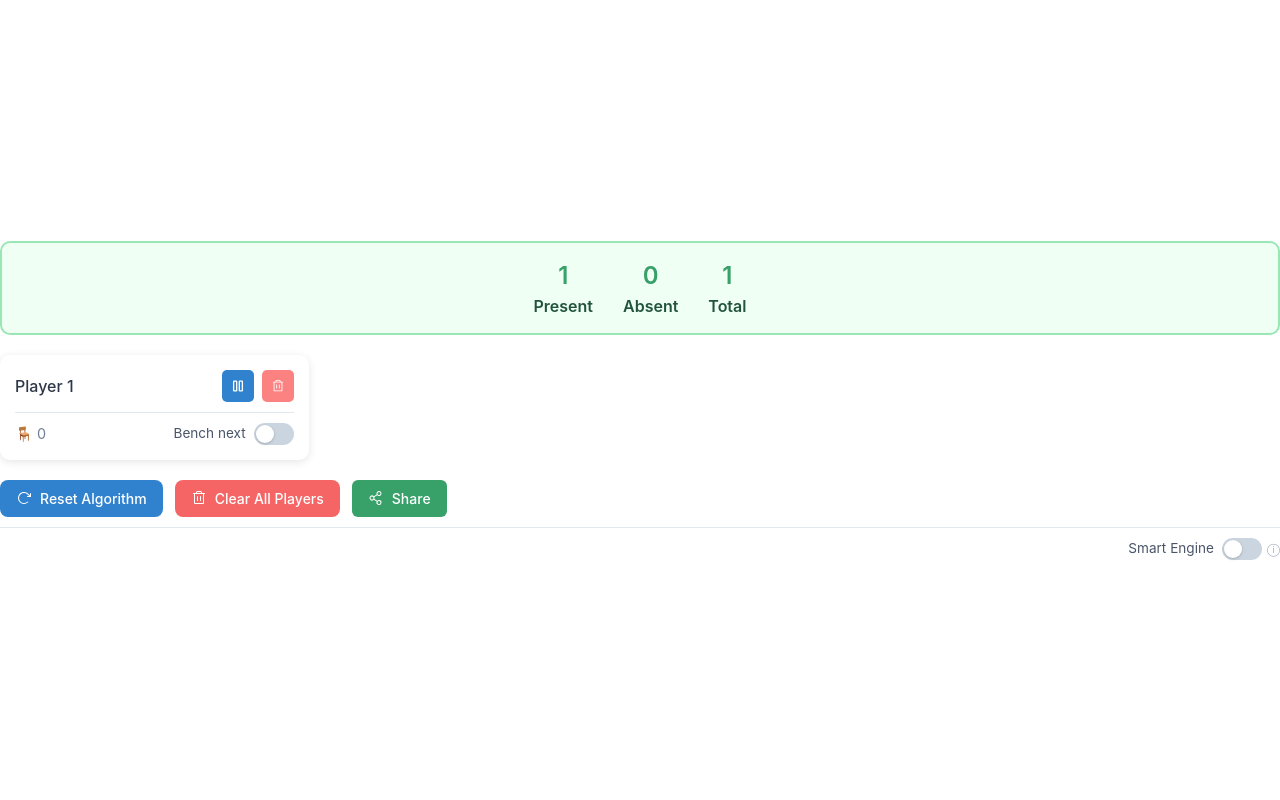
Test case: PlayerList Component › opens removal modal when remove button is clicked
This screenshot has width=1280, height=800.
Click the button titled "Delete player permanently".
click(278, 386)  # box [262,370,294,402]
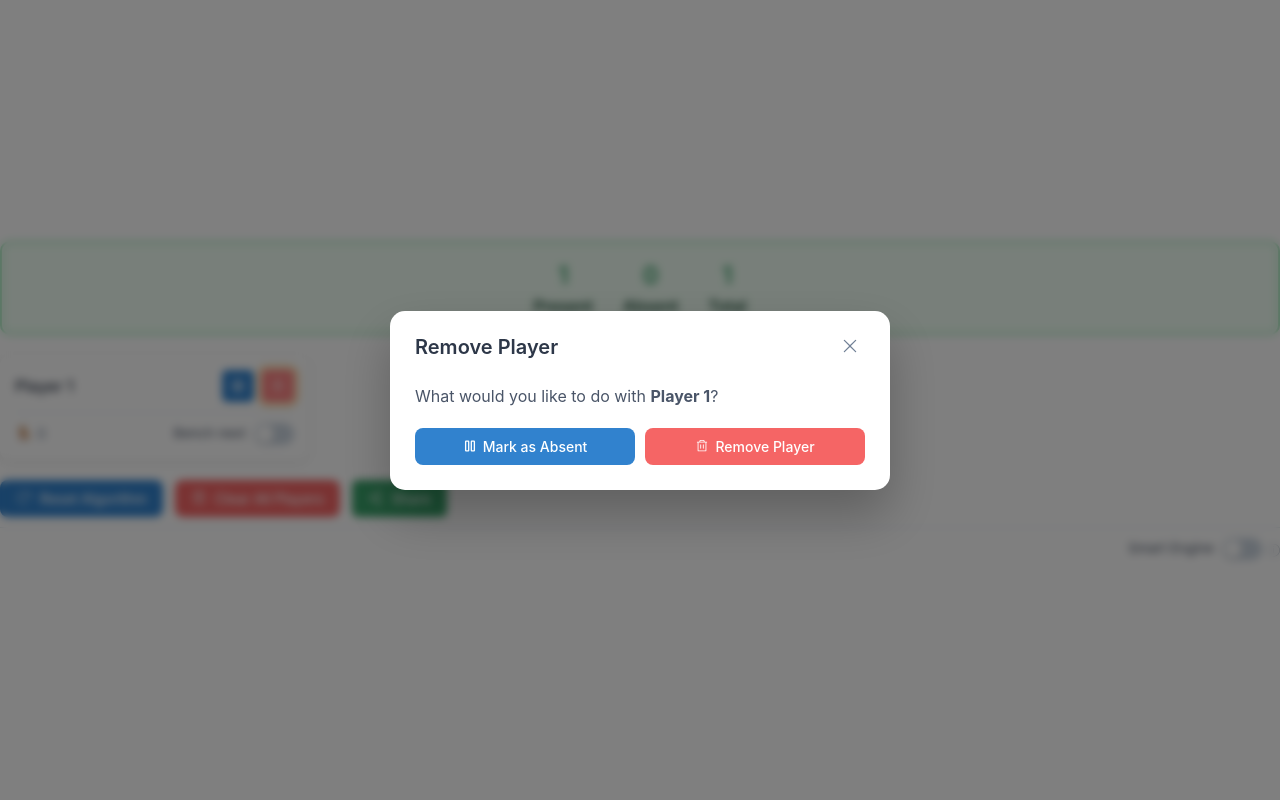
Expected: the text "Player 1" is shown 2 times, [15,376,74,396]; [650,386,710,406]
Expected: the element with test id "player-removal-modal" is shown
Expected: the heading "Remove Player" is shown, [415,332,558,362]
